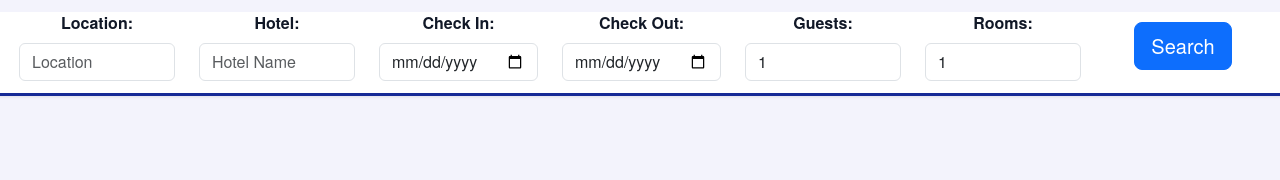
SearchBar API Integration Tests › Autocomplete Integration › handles search page autocomplete integration
Type "Sin" into the field with placeholder "Location".
click(97, 62); type("Sin")  # box [19,43,175,81]
Wait 300 ms
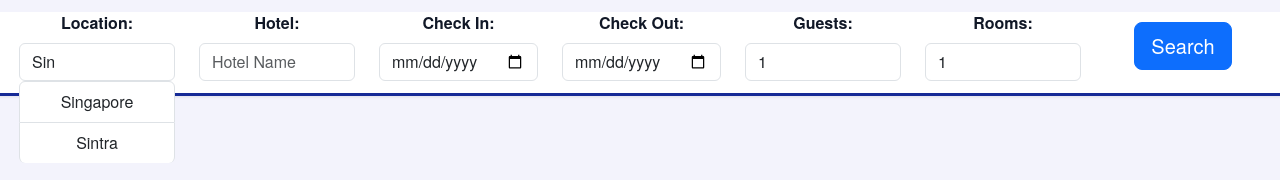
Check: the text "Singapore" is shown, box [19,81,175,123]
Check: the text "Sintra" is shown, box [19,123,175,163]
